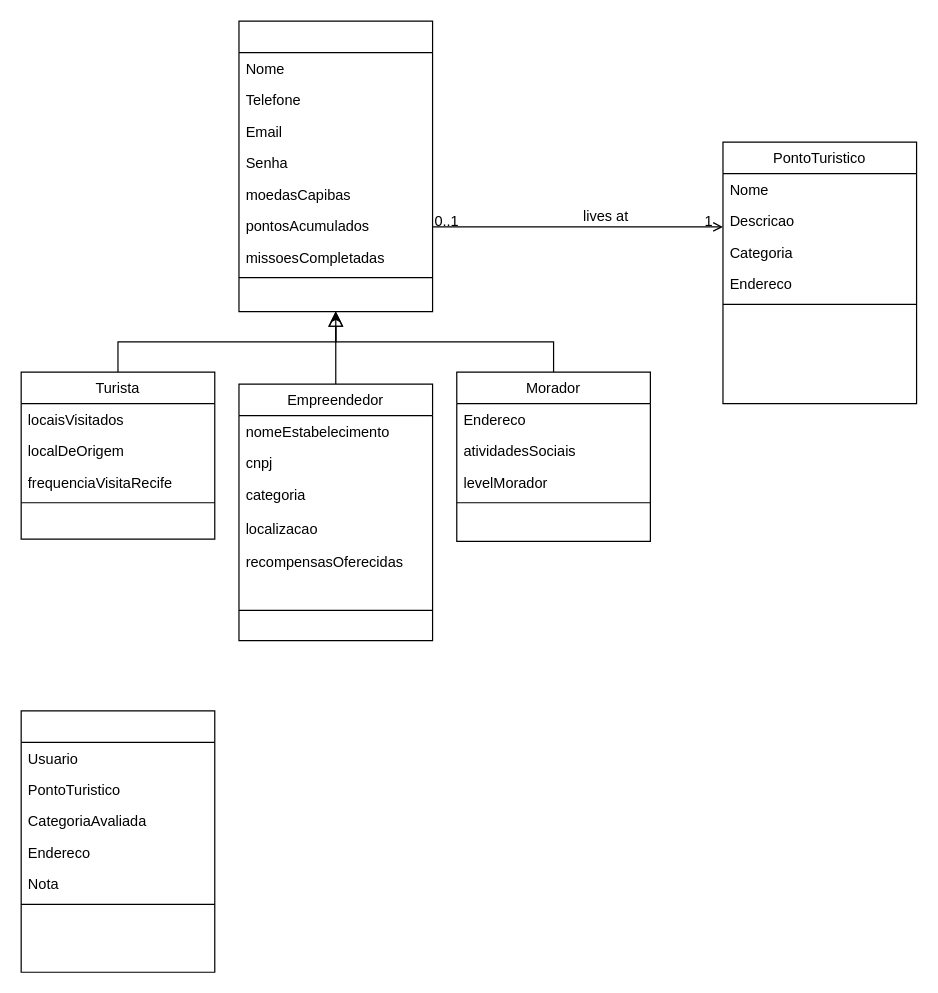
This 938x993 diagram has some shape labels left out. The shapes that lost their labels are listed below. From the top down, each one's box as (x1, y1, x2, y2) in pixels, then its label:
(238, 20, 433, 312): Usuário
(20, 710, 215, 972): Avaliacao
